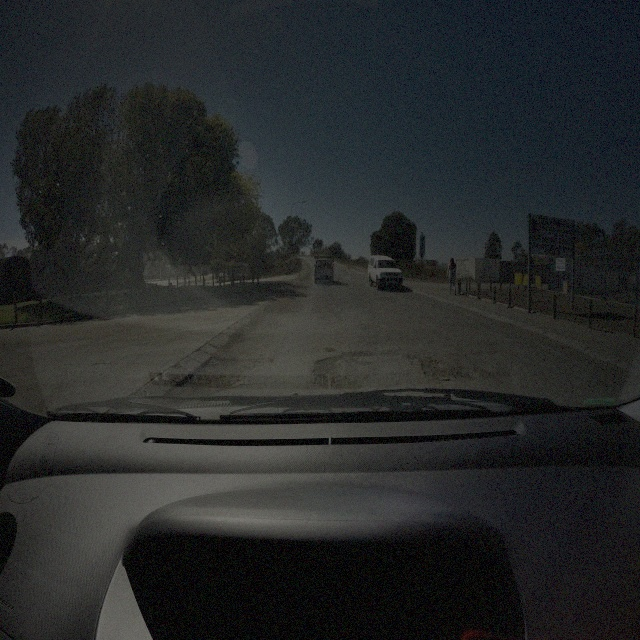pothole: (180, 354, 250, 389), (311, 349, 360, 394), (410, 350, 450, 381)
